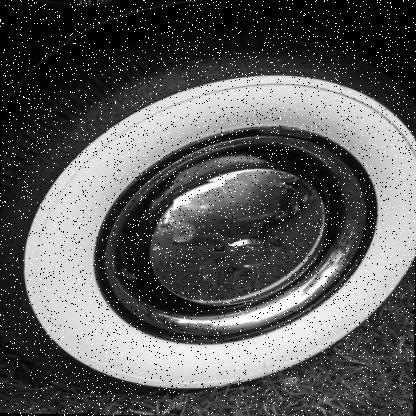Car: (0, 0, 415, 401), (172, 180, 299, 247)
